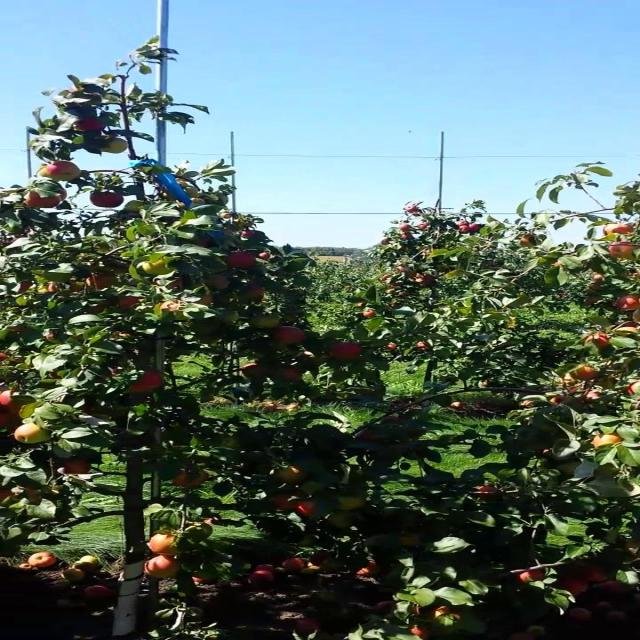apple: (28, 188, 71, 209), (13, 424, 52, 445), (148, 556, 183, 579), (127, 372, 164, 393), (49, 164, 85, 184), (6, 484, 43, 502), (148, 536, 181, 556), (141, 260, 178, 277), (92, 192, 126, 209), (269, 492, 299, 511), (276, 468, 311, 484), (433, 608, 464, 626), (156, 304, 190, 320), (177, 472, 210, 488), (476, 484, 505, 502), (333, 344, 363, 361), (326, 512, 356, 529), (63, 460, 94, 476), (227, 252, 256, 269), (276, 328, 306, 344), (561, 580, 590, 596), (28, 552, 57, 568), (596, 432, 626, 447), (241, 364, 270, 379), (340, 496, 368, 511), (582, 568, 610, 583), (191, 320, 220, 334), (92, 276, 119, 291), (611, 244, 636, 260), (276, 368, 306, 381), (604, 224, 633, 237), (298, 500, 320, 517), (255, 316, 283, 329), (77, 120, 107, 132), (518, 572, 548, 584), (205, 276, 229, 290), (106, 140, 128, 155), (6, 388, 21, 410), (355, 432, 384, 443), (618, 296, 639, 311), (397, 536, 423, 548), (413, 624, 432, 640), (575, 368, 599, 380), (120, 296, 142, 309), (589, 336, 612, 348), (6, 408, 21, 426), (582, 392, 603, 404), (625, 380, 638, 396), (518, 236, 535, 248), (618, 324, 638, 334), (305, 352, 324, 362), (248, 288, 265, 298), (198, 296, 215, 305), (255, 252, 270, 261), (20, 284, 36, 292), (198, 240, 213, 248), (227, 316, 242, 324), (518, 400, 533, 408), (70, 284, 85, 292), (241, 232, 256, 239), (554, 396, 567, 404), (92, 308, 107, 314)
